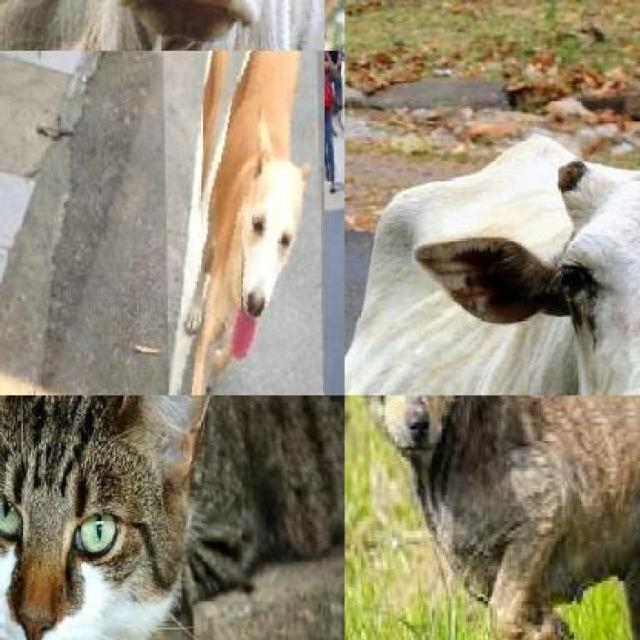cat: (0, 395, 345, 640)
cow: (344, 0, 640, 395)
dog: (360, 395, 640, 640), (162, 51, 324, 395)
injured: (452, 509, 602, 640)
